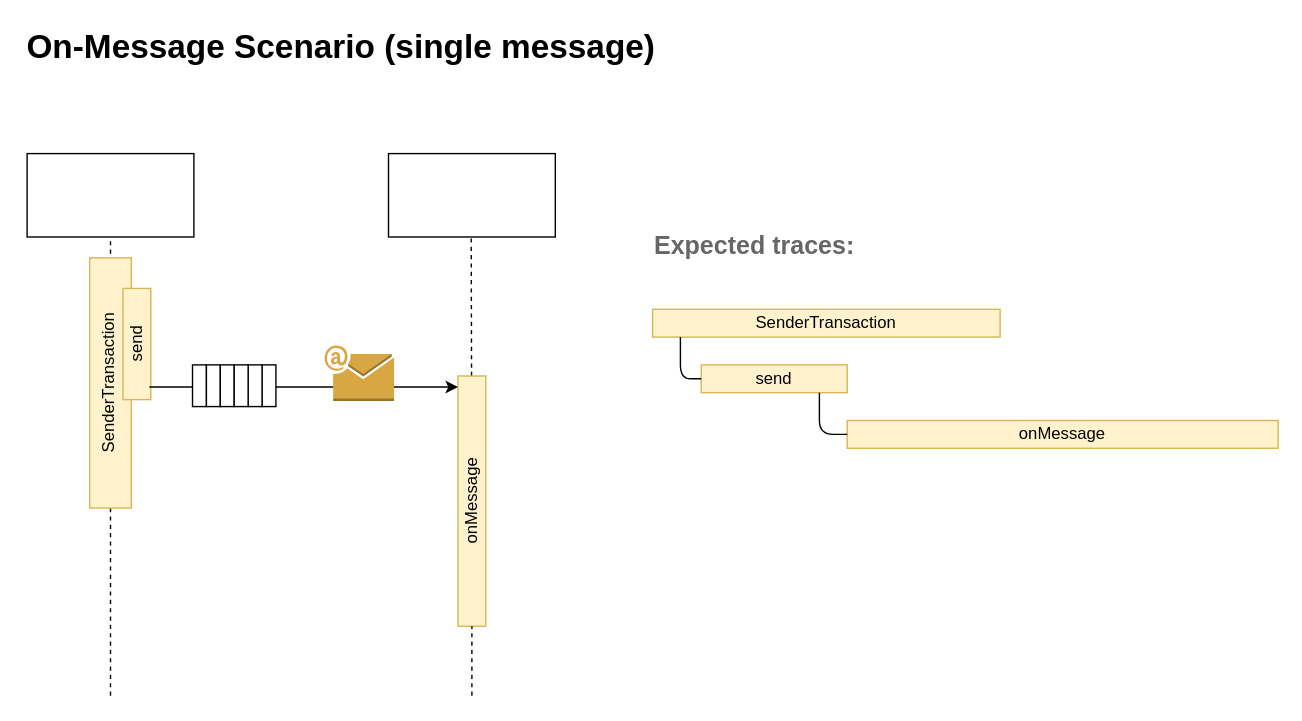
The diagram is 1302 pixels wide and 721 high, and some of its shapes have lost their labels. The centre of each missing label's shape, as x and y in pixels:
receiver: point 471,194
sender: point 110,194
